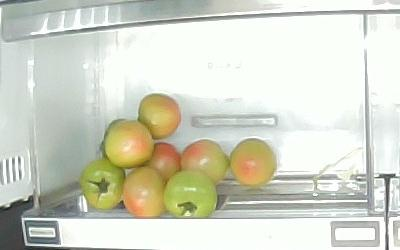tomato: (164, 170, 218, 219), (101, 119, 153, 168), (180, 139, 231, 188), (80, 159, 125, 211), (123, 166, 167, 218), (230, 138, 277, 186), (138, 94, 181, 140), (147, 142, 181, 182)
